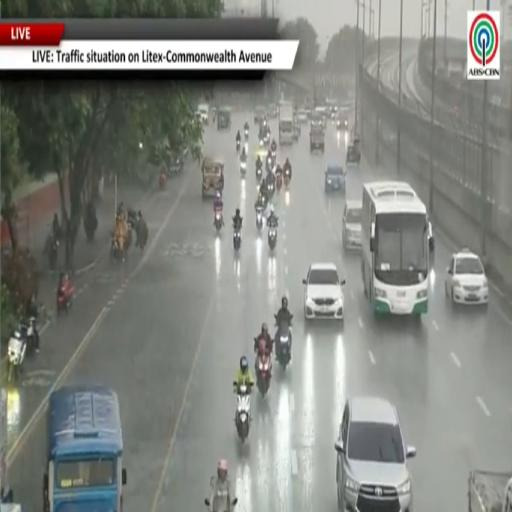bus: (44, 386, 126, 511), (361, 181, 429, 315)
car: (335, 397, 416, 511), (303, 263, 345, 321), (445, 249, 488, 305), (342, 200, 362, 249), (325, 165, 345, 193), (428, 218, 435, 259), (197, 104, 209, 124), (254, 106, 266, 124), (297, 109, 309, 124), (336, 116, 348, 131), (268, 104, 278, 118)
jeepney: (202, 157, 224, 198), (346, 137, 360, 166), (217, 107, 231, 130)
motorcycle: (234, 381, 251, 442), (274, 315, 292, 369), (7, 331, 26, 382), (255, 339, 272, 396), (18, 317, 38, 353), (256, 351, 272, 396), (57, 280, 74, 314), (204, 498, 238, 511), (48, 236, 59, 269), (110, 237, 124, 262), (127, 208, 138, 229), (214, 208, 223, 232), (268, 227, 276, 250), (233, 229, 241, 251), (256, 208, 263, 231), (159, 172, 167, 189), (267, 181, 275, 197), (284, 169, 290, 187), (276, 174, 282, 191), (240, 160, 246, 175), (256, 166, 262, 181), (266, 157, 272, 171), (271, 150, 276, 166), (236, 140, 241, 152), (259, 137, 264, 148), (245, 130, 248, 141)
truck: (469, 471, 511, 511), (0, 389, 13, 504), (279, 101, 293, 145), (0, 503, 21, 511)
